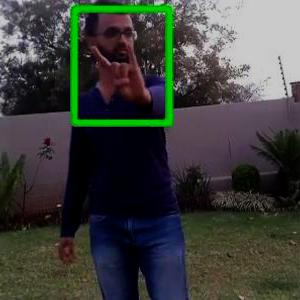takeoff-hand: (91, 36, 146, 101)
